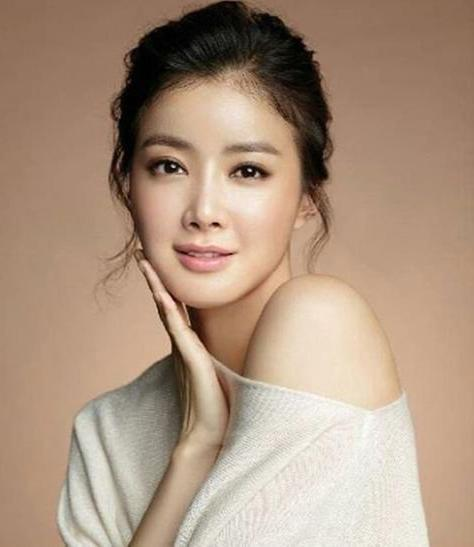Sober: (140, 89, 288, 290)
